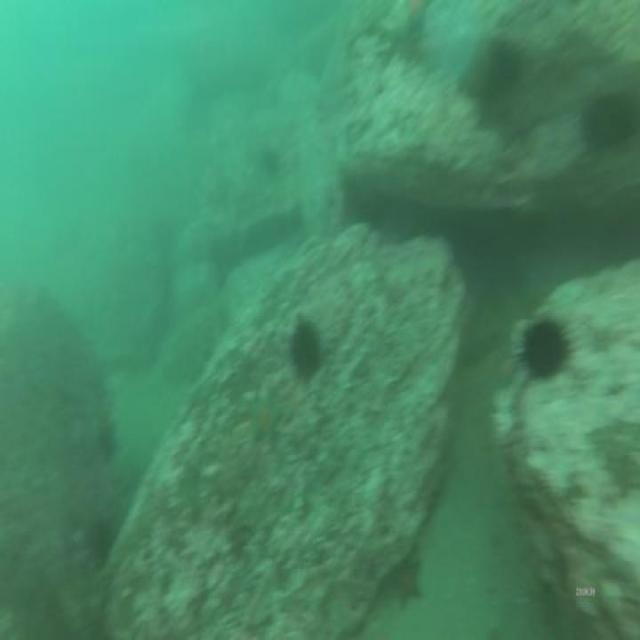echinus: (587, 80, 637, 160), (521, 311, 571, 384), (285, 311, 328, 386)
starfish: (385, 552, 429, 605), (244, 392, 286, 447)
